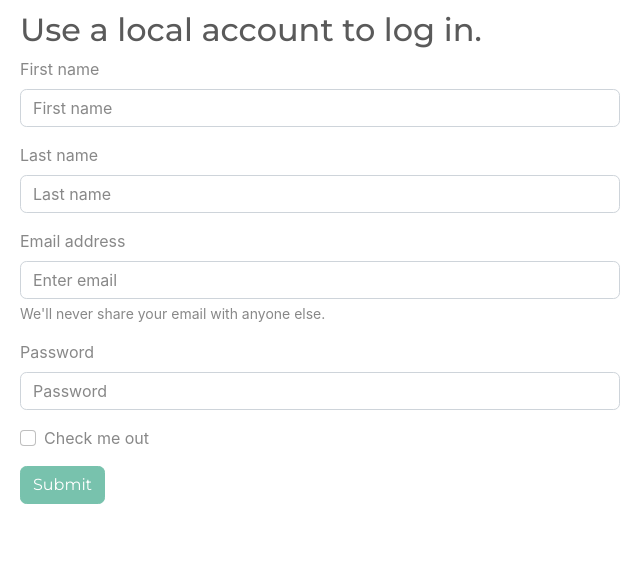
Scenario: Register component › should show warining if last name is less than 3 characters
The width and height of the screenshot is (641, 561).
Type "zz" into the field with placeholder "Last name".
click(320, 194); type("zz")  # box [20, 175, 620, 213]
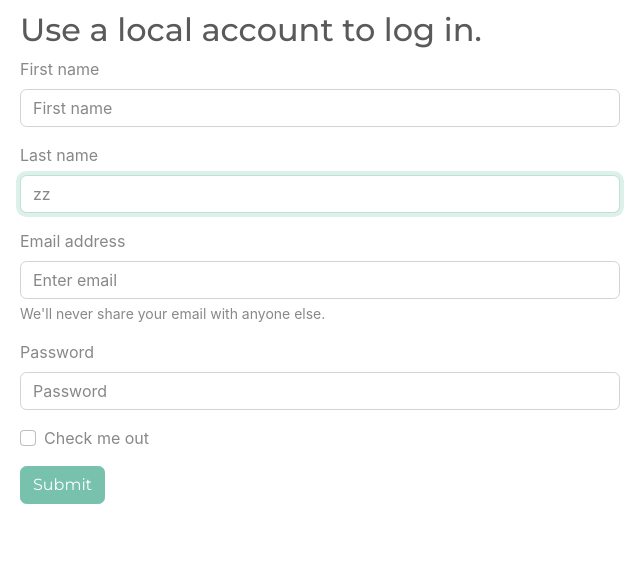
Type "visitacity@abv.bg" into the field with placeholder "Enter email".
click(320, 280); type("visitacity@abv.bg")  # box [20, 261, 620, 299]
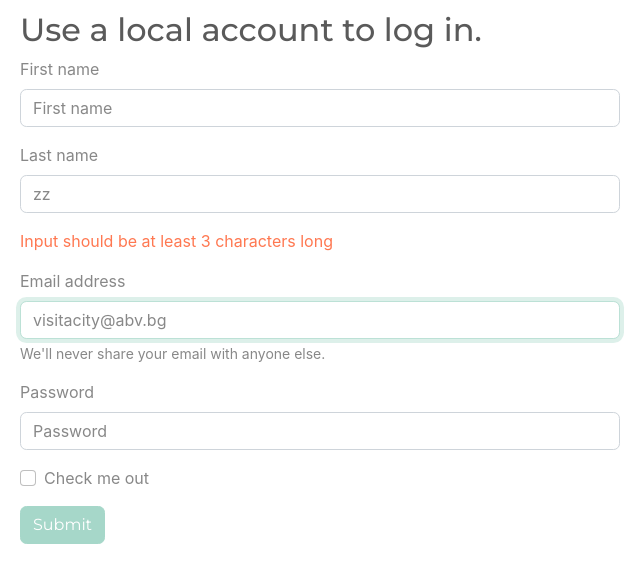
Expected: the text "Input should be at least 3 characters long" is shown, [20, 231, 333, 251]
